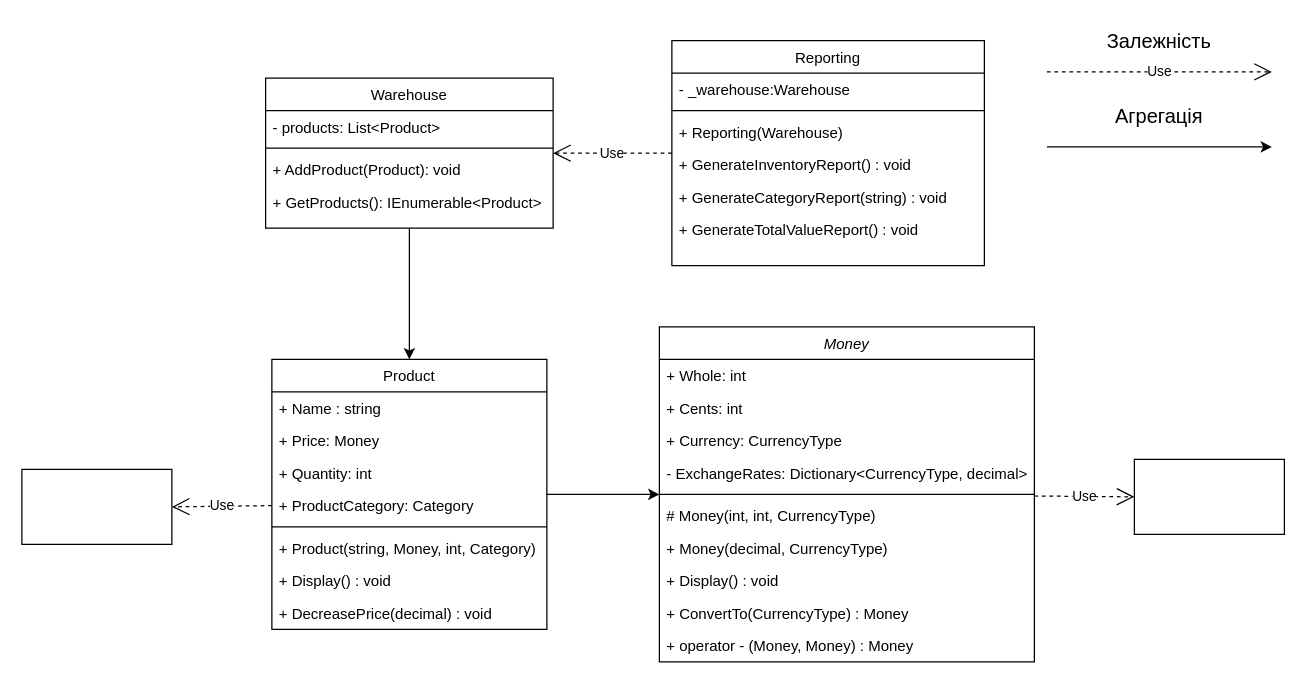
Some shapes in this 1311 by 686 pixel diagram are drawn without their labels. The shapes that lost their labels are listed below. From the top down, each one's centre as x and y in pixels, then its label:
At [96,506]: "enum Category".
At [1208,496]: "enum CurrencyType".
